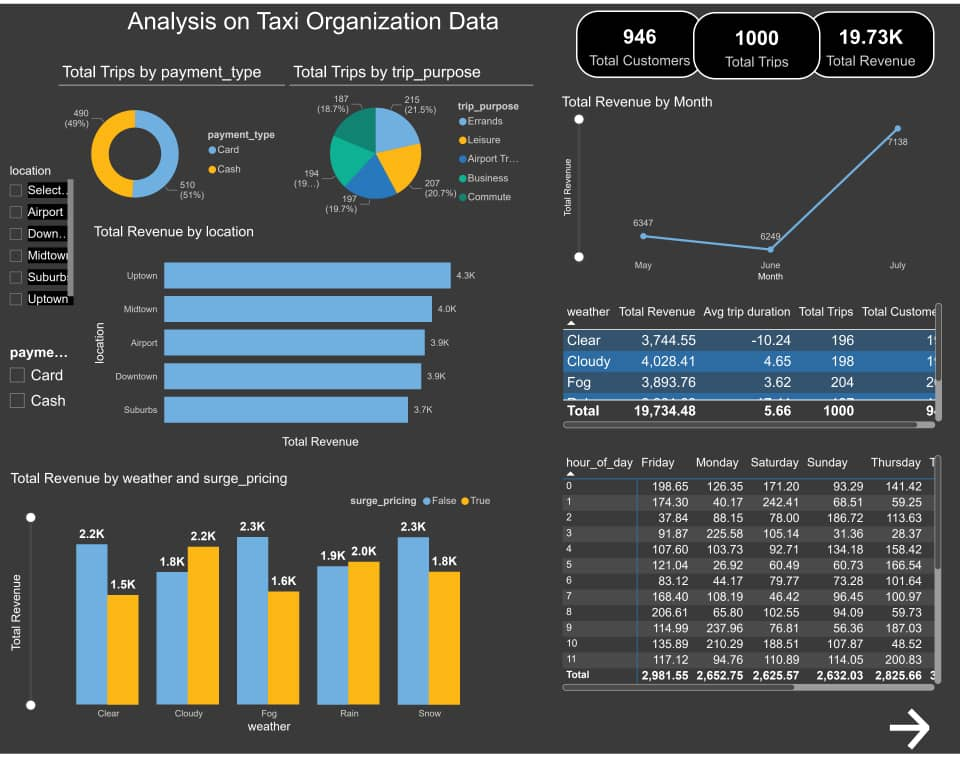

This screenshot's page, from the dashboard's own definition file:
{"tool":"powerbi","page":{"name":"Executive DashBoard","canvas":[1280,1000],"ordinal":0},"visuals":[{"type":"card","fields":{"Values":["taxi_organization_data1.Total Customers"]},"box":[767.6,8.9,170.2,90.4],"z":0},{"type":"card","fields":{"Values":["taxi_organization_data1.Total Revenue"]},"box":[1075.9,9.9,170.1,89.3],"z":1000},{"type":"card","fields":{"Values":["taxi_organization_data1.Total Trips"]},"box":[923.7,10.6,170.2,90],"z":2000},{"type":"barChart","fields":{"Category":["taxi_organization_data1.location"],"Y":["taxi_organization_data1.Total Revenue"]},"box":[120.2,292.6,520.7,304.8],"z":3000},{"type":"donutChart","fields":{"Category":["taxi_organization_data1.payment_type"],"Y":["taxi_organization_data1.Total Trips"]},"box":[78,79.4,301.9,211.2],"z":4000},{"type":"pieChart","fields":{"Category":["taxi_organization_data1.trip_purpose"],"Y":["taxi_organization_data1.Total Trips"]},"box":[385.6,79.4,324.6,209.8],"z":5000},{"type":"tableEx","fields":{"Values":["taxi_organization_data1.weather","taxi_organization_data1.Total Revenue","taxi_organization_data1.Avg trip duration","taxi_organization_data1.Total Trips","taxi_organization_data1.Total Customers"]},"box":[744.6,393.6,515.9,177.3],"z":6000},{"type":"lineChart","fields":{"Category":["taxi_organization_data1.dropoff_date.Variation.Date Hierarchy.Month"],"Y":["taxi_organization_data1.Total Revenue"]},"box":[744.2,120.5,525.9,255.1],"z":7000},{"type":"clusteredColumnChart","fields":{"Y":["taxi_organization_data1.Total Revenue"],"Category":["taxi_organization_data1.weather"],"Series":["taxi_organization_data1.surge_pricing"]},"box":[8.5,622.3,654.9,355.8],"z":8000},{"type":"pivotTable","fields":{"Values":["taxi_organization_data1.Total Revenue"],"Columns":["taxi_organization_data1.day_of_week"],"Rows":["taxi_organization_data1.hour_of_day"]},"box":[745.4,597.3,515.5,323.9],"z":9000},{"type":"textbox","box":[164.9,0,519.4,53.2],"z":10000},{"type":"slicer","title":"Location","fields":{"Values":["taxi_organization_data1.location"]},"box":[0,209,102.7,198.4],"z":11000},{"type":"slicer","fields":{"Values":["taxi_organization_data1.payment_type"]},"box":[0,448.5,120.6,124.1],"z":12000},{"type":"actionButton","box":[1179,935.2,101,64.4],"z":12001}]}

Visuals, with their boxes in screenshot pixels (x1, y1, x2, y2), scaled from the page's 1280x1000 canvas onto the 960x758 screenshot:
card - taxi_organization_data1.Total Customers: box(576, 7, 703, 75)
card - taxi_organization_data1.Total Revenue: box(807, 8, 934, 75)
card - taxi_organization_data1.Total Trips: box(693, 8, 820, 76)
barChart - taxi_organization_data1.location x taxi_organization_data1.Total Revenue: box(90, 222, 481, 453)
donutChart - taxi_organization_data1.payment_type x taxi_organization_data1.Total Trips: box(58, 60, 285, 220)
pieChart - taxi_organization_data1.trip_purpose x taxi_organization_data1.Total Trips: box(289, 60, 533, 219)
tableEx - taxi_organization_data1.weather x taxi_organization_data1.Total Revenue: box(558, 298, 945, 433)
lineChart - taxi_organization_data1.dropoff_date.Variation.Date Hierarchy.Month x taxi_organization_data1.Total Revenue: box(558, 91, 953, 285)
clusteredColumnChart - taxi_organization_data1.Total Revenue x taxi_organization_data1.weather: box(6, 472, 498, 741)
pivotTable - taxi_organization_data1.Total Revenue x taxi_organization_data1.day_of_week: box(559, 453, 946, 698)
textbox: box(124, 0, 513, 40)
"Location" slicer: box(0, 158, 77, 309)
slicer - taxi_organization_data1.payment_type: box(0, 340, 90, 434)
actionButton: box(884, 709, 959, 757)
